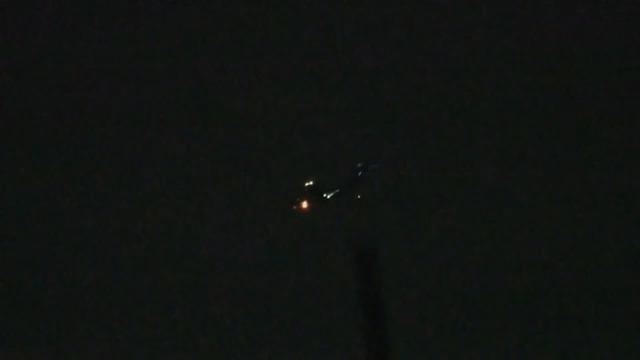Plane: (267, 167, 354, 223)
